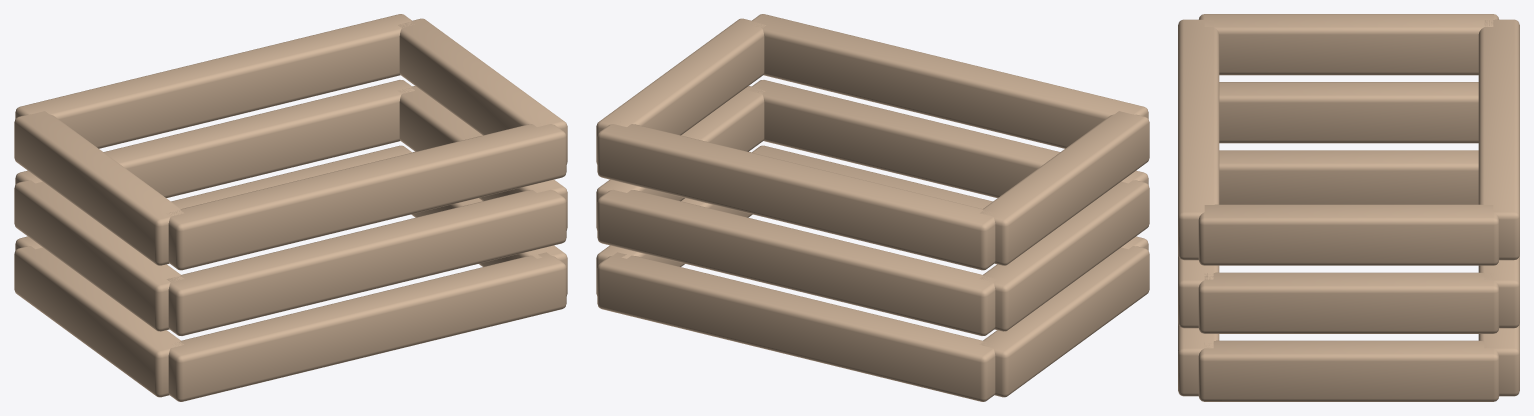
The model's file is compost-empty.glb.
3 views of the same model, side by side, from view 1: azimuth 30°, elevation 25°; view 2: azimuth 150°, elevation 25°; view 3: azimuth 270°, elevation 25° (orthographic). The views are drawn at different scales.
Parts seen in each view (by area): view 1: Compost bin slat.014, Compost bin slat.012, Compost bin slat.016, Compost bin slat.017, Compost bin slat.015, Compost bin side.016, Compost bin side.012, Compost bin side.014, Compost bin side.017, Compost bin side.015, Compost bin slat.013, Compost bin side.013; view 2: Compost bin slat.015, Compost bin slat.013, Compost bin slat.017, Compost bin slat.016, Compost bin slat.014, Compost bin side.016, Compost bin side.012, Compost bin side.014, Compost bin side.017, Compost bin side.015, Compost bin slat.012, Compost bin side.013; view 3: Compost bin side.017, Compost bin side.015, Compost bin side.013, Compost bin side.016, Compost bin side.014, Compost bin side.012, Compost bin slat.017, Compost bin slat.016, Compost bin slat.015, Compost bin slat.014, Compost bin slat.012, Compost bin slat.013.
Boxes of the visible parts, bbox=[...] form: Compost bin slat.014: bbox=[166, 189, 566, 335]; Compost bin slat.012: bbox=[168, 252, 566, 401]; Compost bin slat.016: bbox=[168, 124, 566, 270]; Compost bin slat.017: bbox=[15, 14, 414, 148]; Compost bin slat.015: bbox=[15, 80, 414, 197]; Compost bin side.016: bbox=[14, 111, 183, 265]; Compost bin side.012: bbox=[14, 246, 183, 397]; Compost bin side.014: bbox=[14, 180, 183, 331]; Compost bin side.017: bbox=[398, 18, 567, 164]; Compost bin side.015: bbox=[398, 86, 567, 230]; Compost bin slat.013: bbox=[15, 145, 411, 250]; Compost bin side.013: bbox=[411, 151, 567, 295]; Compost bin slat.015: bbox=[597, 189, 997, 335]; Compost bin slat.013: bbox=[597, 252, 995, 401]; Compost bin slat.017: bbox=[597, 124, 995, 270]; Compost bin slat.016: bbox=[750, 14, 1148, 148]; Compost bin slat.014: bbox=[749, 80, 1148, 197]; Compost bin side.016: bbox=[980, 111, 1149, 265]; Compost bin side.012: bbox=[979, 246, 1149, 397]; Compost bin side.014: bbox=[980, 180, 1149, 331]; Compost bin side.017: bbox=[596, 18, 765, 164]; Compost bin side.015: bbox=[596, 86, 765, 230]; Compost bin slat.012: bbox=[752, 145, 1148, 250]; Compost bin side.013: bbox=[596, 151, 752, 295]; Compost bin side.017: bbox=[1198, 204, 1499, 265]; Compost bin side.015: bbox=[1198, 272, 1499, 333]; Compost bin side.013: bbox=[1198, 340, 1499, 401]; Compost bin side.016: bbox=[1199, 14, 1498, 75]; Compost bin side.014: bbox=[1219, 82, 1478, 143]; Compost bin side.012: bbox=[1219, 150, 1478, 204]; Compost bin slat.017: bbox=[1478, 19, 1519, 260]; Compost bin slat.016: bbox=[1178, 19, 1219, 260]; Compost bin slat.015: bbox=[1478, 255, 1519, 328]; Compost bin slat.014: bbox=[1178, 255, 1219, 328]; Compost bin slat.012: bbox=[1178, 323, 1219, 396]; Compost bin slat.013: bbox=[1478, 323, 1519, 396].
Bounding box in the file's own units: 1.31 × 0.54 × 0.91.
